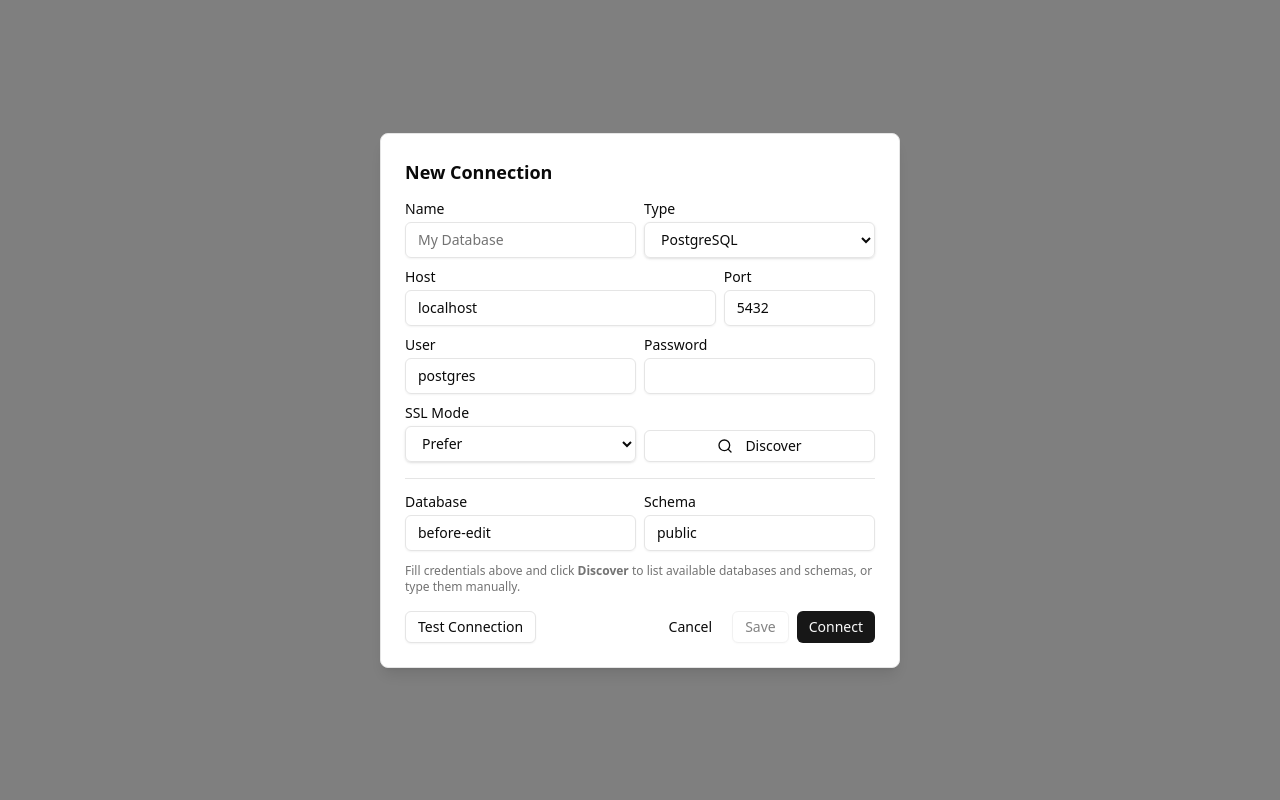
Test: ConnectionDialog SSL modes › clears discovery state and ignores a late response after a form edit
Click the button "Discover". click: point(760, 446)
box: [644,430,875,462]
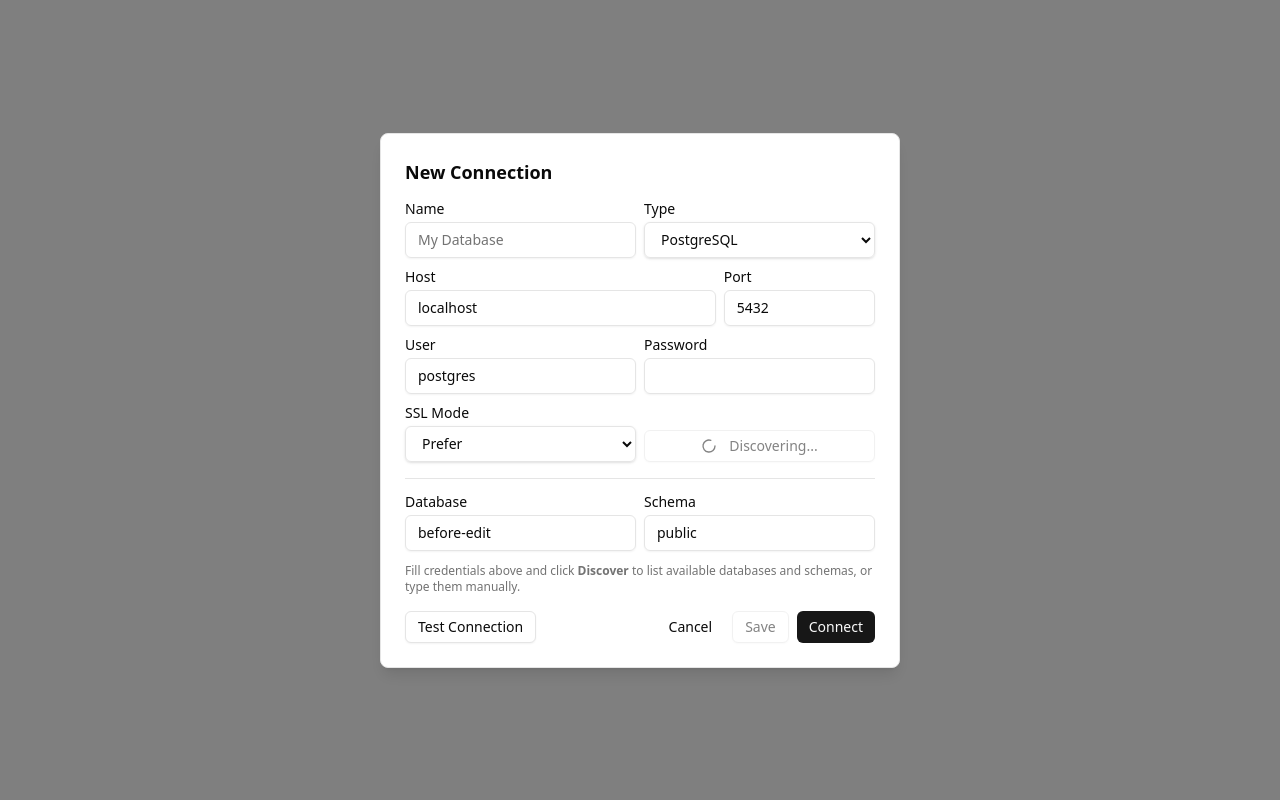
Expected: the button "Discovering..." is shown, [644,430,875,462]
Replace the text in the field labelled "Host" with "changed.example.test". click: point(560, 308)
box: [405,290,716,326]
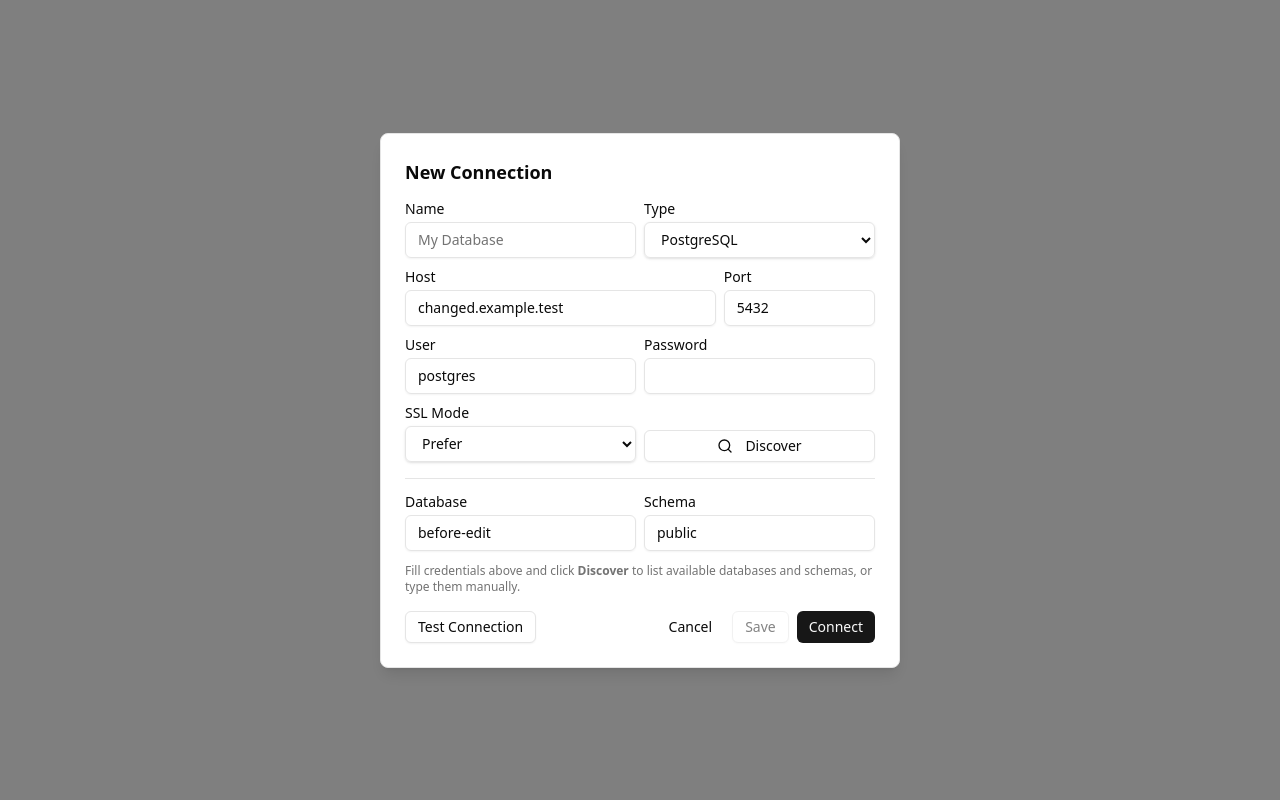
Expected: the field labelled "Database" holds "before-edit", [405,514,636,550]
Expected: the button "Discover" is enabled, [644,430,875,462]
